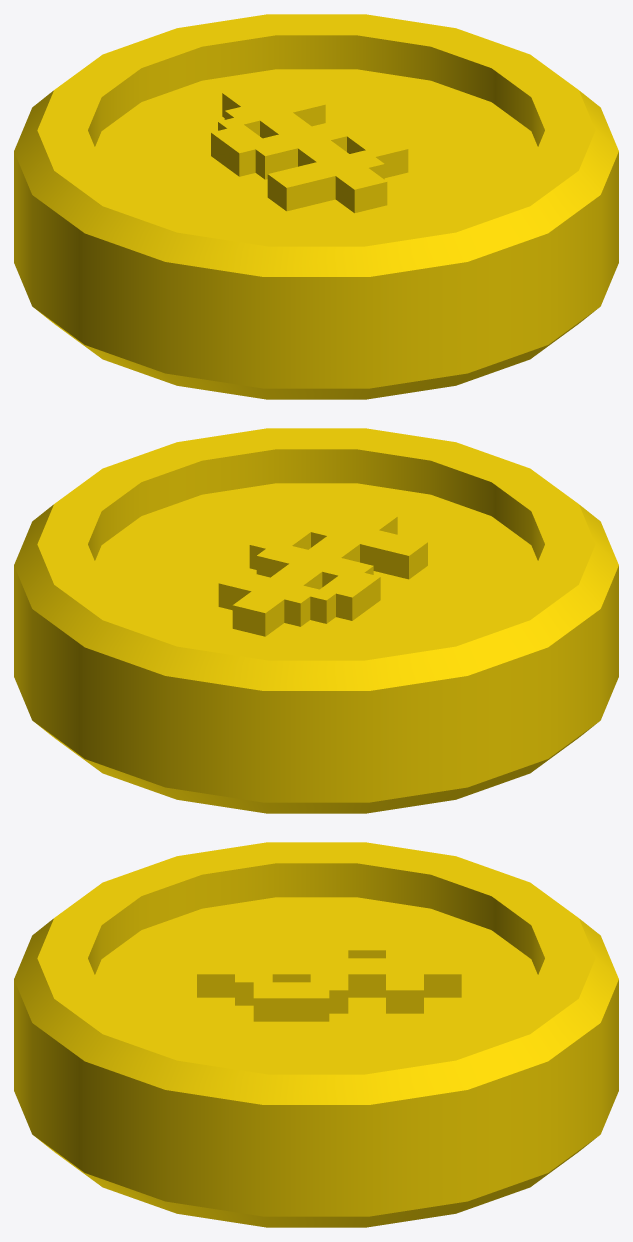
Rendered from coin.glb.
3 renders of one model, top to bottom at view 1: azimuth 30°, elevation 25°; view 2: azimuth 150°, elevation 25°; view 3: azimuth 270°, elevation 25°, orthographic.
Parts seen in each view (by area): view 1: Coin_New; view 2: Coin_New; view 3: Coin_New.
Part boxes in pixels (x1=…): Coin_New: x1=14, y1=14, x2=618, y2=399; Coin_New: x1=14, y1=428, x2=618, y2=813; Coin_New: x1=14, y1=842, x2=618, y2=1227.
Bounding box in the file's own units: 1.97 × 0.5589 × 2.
